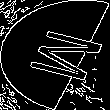M_E: (9, 24, 101, 86)
